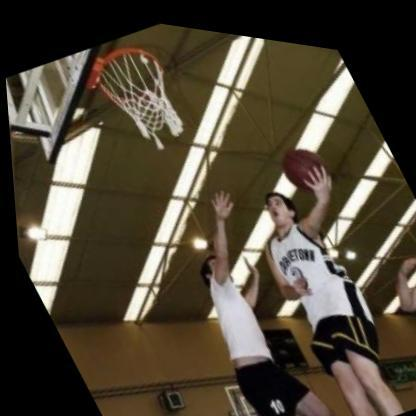basketball: (270, 127, 333, 195)
